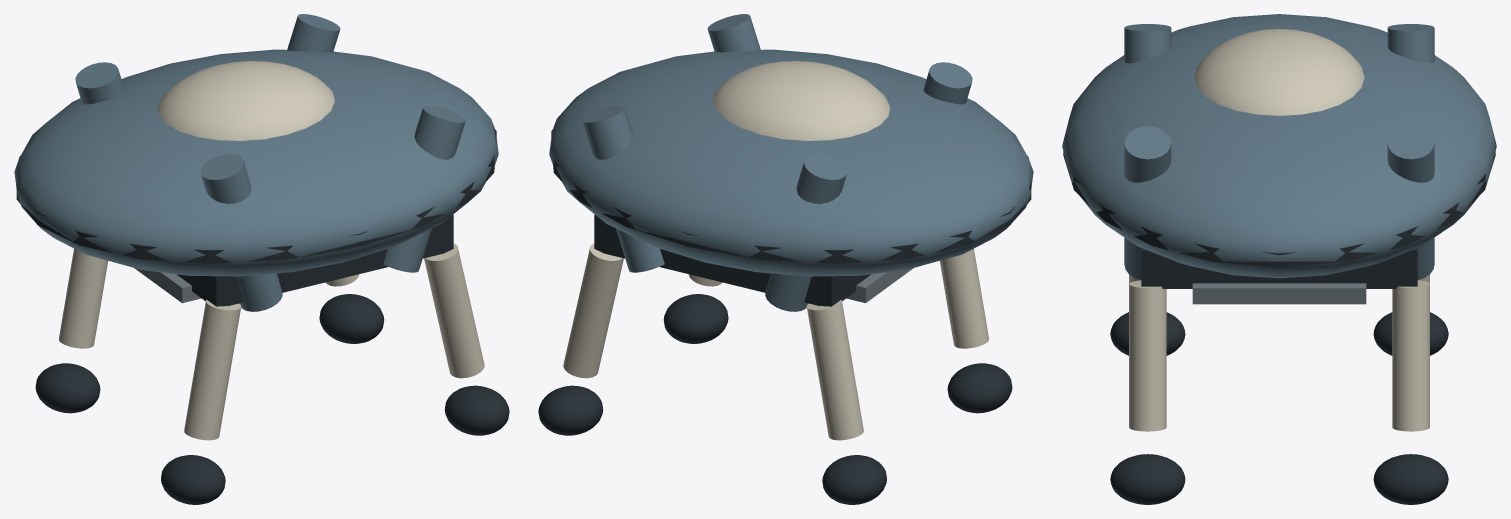
The model's file is warden-early-crawler-saucer-deck-v1.glb.
The picture shows the model from 3 angles, left to right: view 1: azimuth 30°, elevation 25°; view 2: azimuth 150°, elevation 25°; view 3: azimuth 270°, elevation 25°; orthographic projection. The views are drawn at different scales.
Parts seen in each view (by area): view 1: Saucer Deck Crawler · Early Crawler Lab; view 2: Saucer Deck Crawler · Early Crawler Lab; view 3: Saucer Deck Crawler · Early Crawler Lab.
Boxes of the visible parts, left/top/right/bottom form: Saucer Deck Crawler · Early Crawler Lab: left=14, top=14, right=509, bottom=504; Saucer Deck Crawler · Early Crawler Lab: left=538, top=14, right=1033, bottom=504; Saucer Deck Crawler · Early Crawler Lab: left=1062, top=14, right=1496, bottom=504.
Size of the model in its own units: 3.27 by 2.5 by 2.66.
